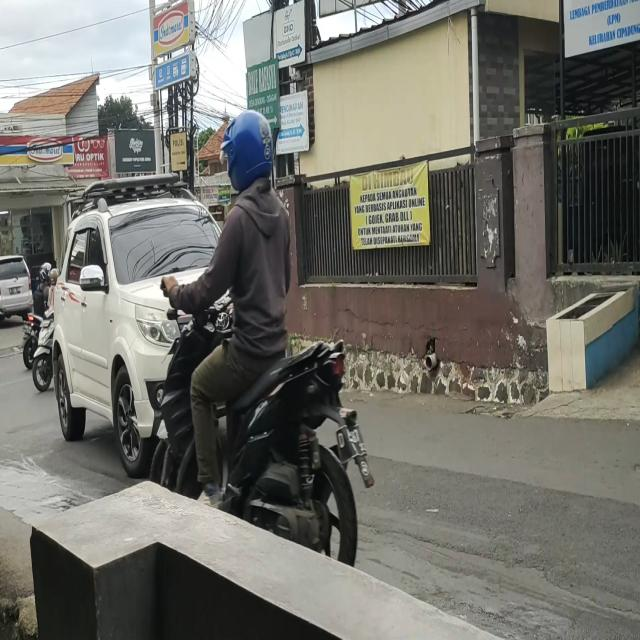helmet: (225, 114, 275, 188)
